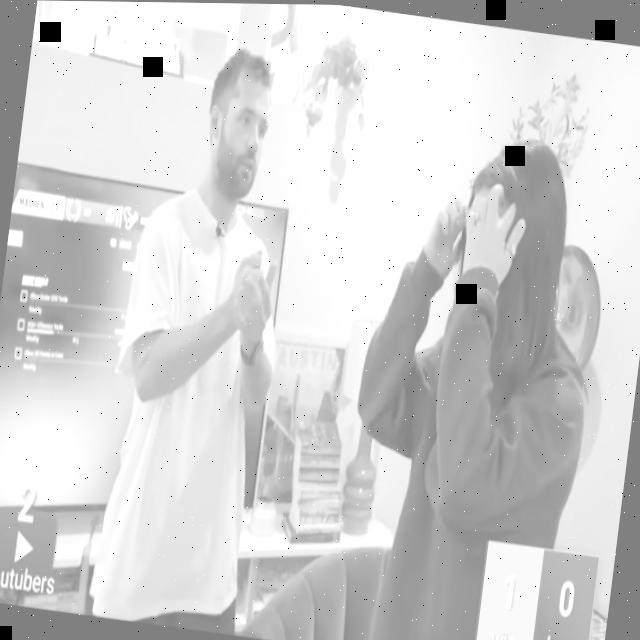Rock: (228, 244, 264, 342)
